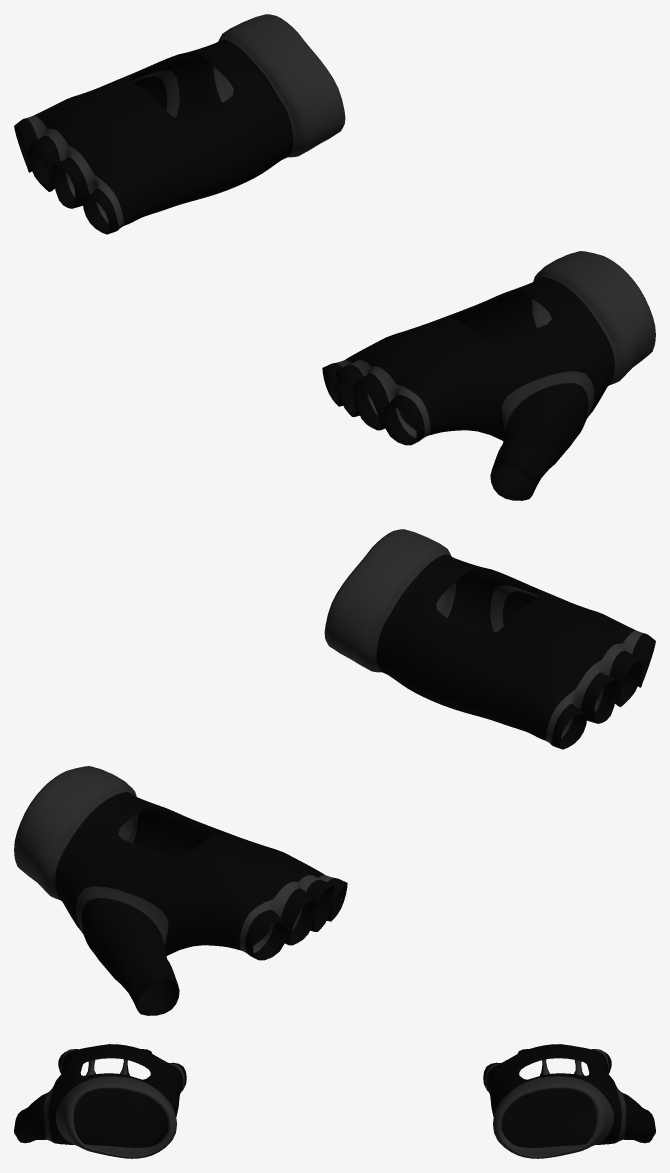
Rendered from Fingerless Gloves.fbx.
3 renders of one model, top to bottom at view 1: azimuth 30°, elevation 25°; view 2: azimuth 150°, elevation 25°; view 3: azimuth 270°, elevation 25°, orthographic. The views are drawn at different scales.
Parts seen in each view (by area): view 1: Cube.025, Cube.026; view 2: Cube.026, Cube.025; view 3: Cube.025, Cube.026.
Part boxes in pixels (box(x1,y1,x2,y2)): Cube.025: box(322, 251, 655, 500); Cube.026: box(14, 14, 345, 234); Cube.026: box(14, 766, 347, 1015); Cube.025: box(324, 529, 655, 749); Cube.025: box(14, 1044, 186, 1158); Cube.026: box(483, 1044, 655, 1158).
Size of the model in its own units: 14.93 by 8.38 by 44.23.
1 material, 1 textured.
